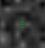eight: (19, 20, 24, 27)
